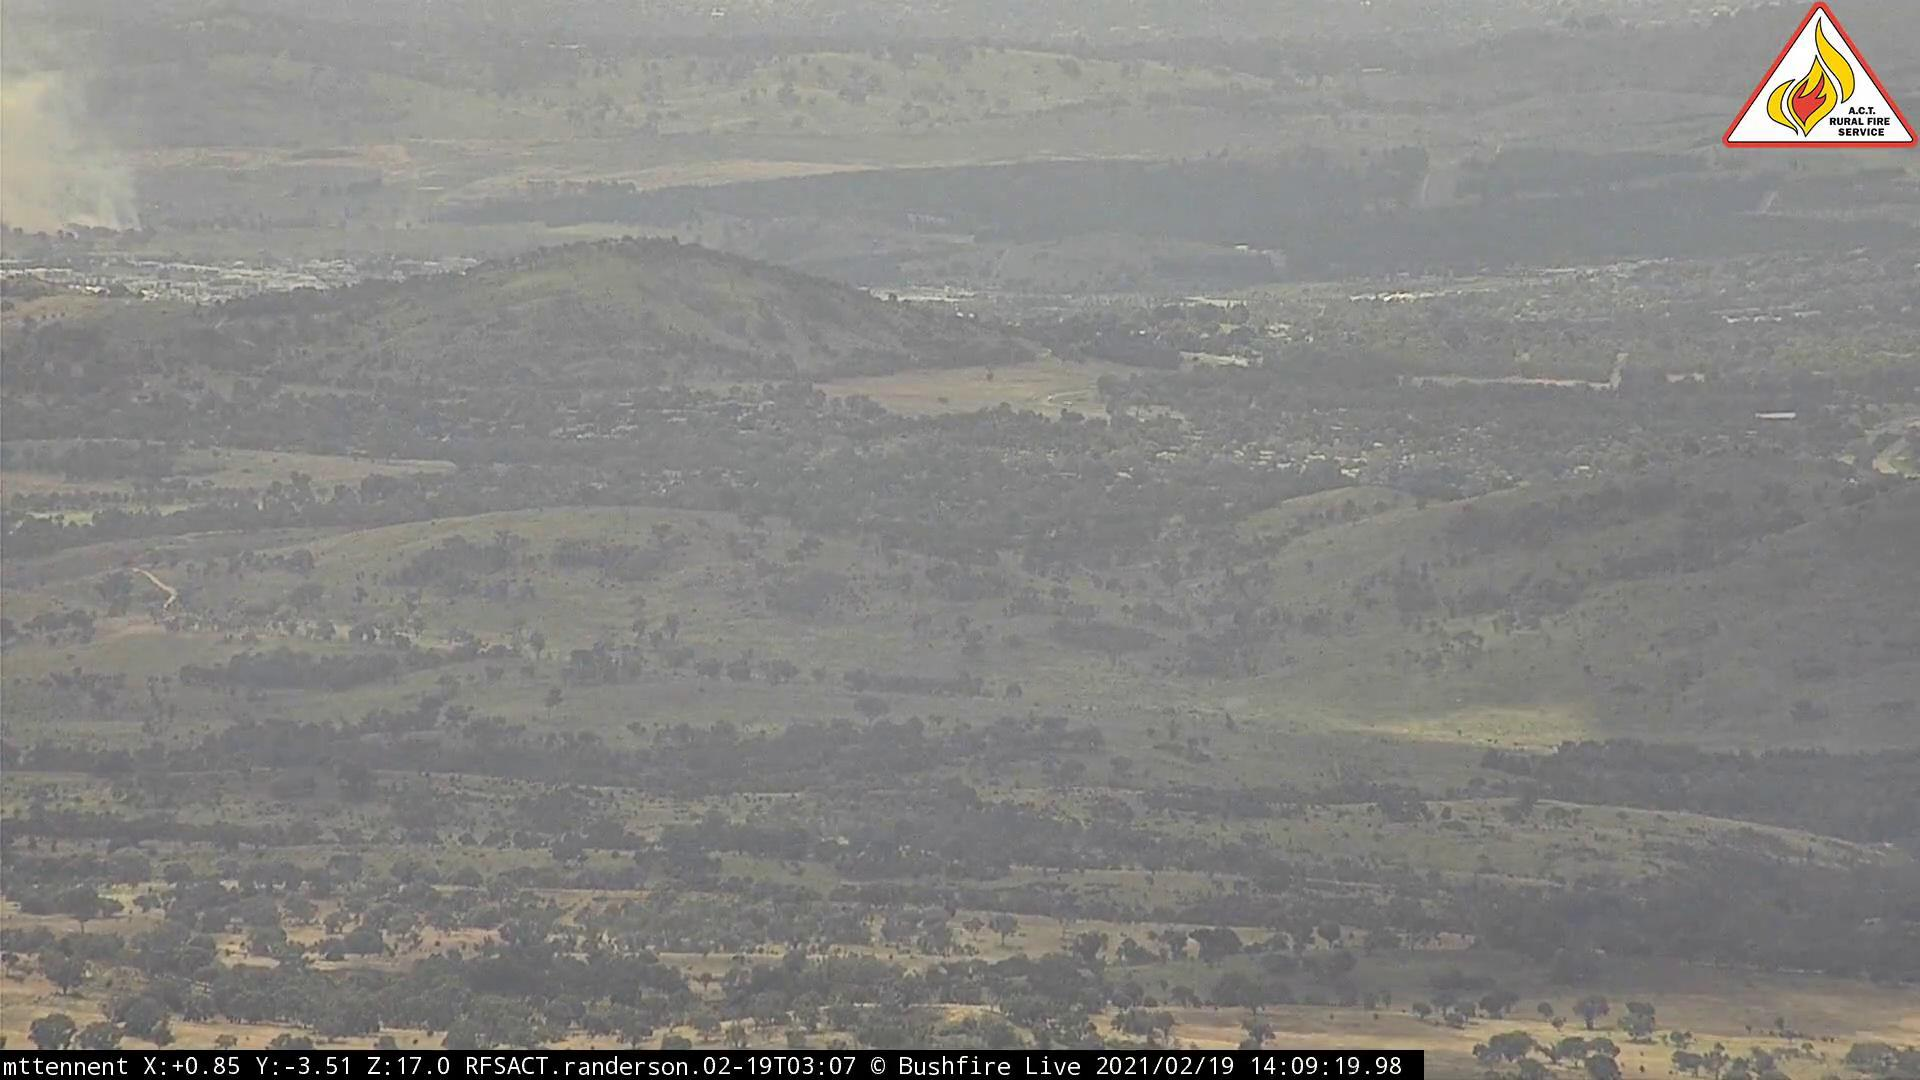Smoke: (3, 3, 158, 239)
